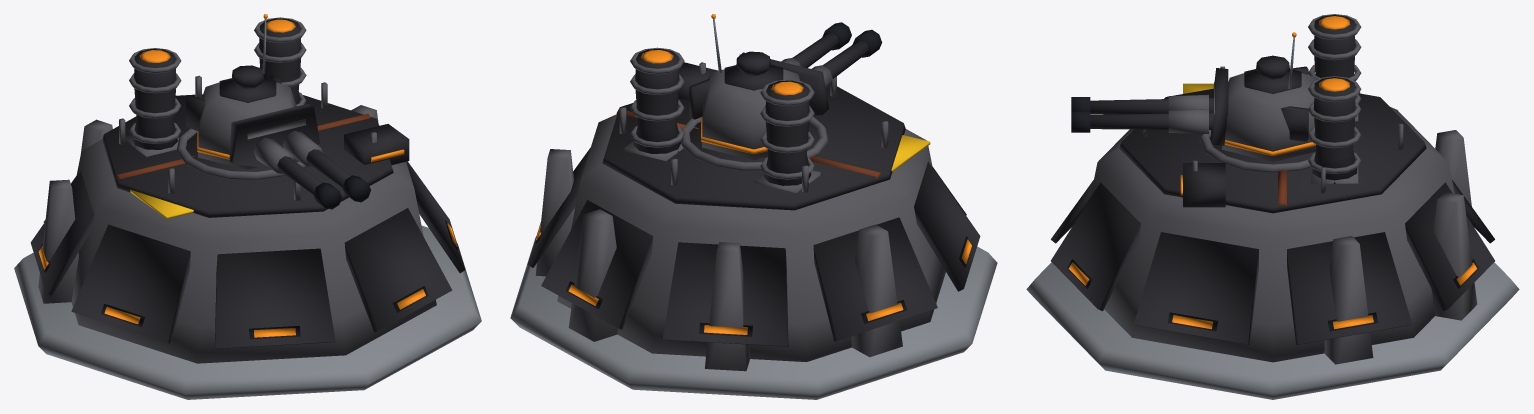
The model's file is nexus_mecha.obj.
3 views of the same model, side by side, from view 1: azimuth 30°, elevation 25°; view 2: azimuth 150°, elevation 25°; view 3: azimuth 270°, elevation 25° (orthographic). The views are drawn at different scales.
Parts seen in each view (by area): view 1: Block, Base, Deck, Plate_5, Plate_4, Plate_6, TurretBody, Stack_0, Mantlet, Buttress_3, Plate_3, RoofBox (+18 smaller); view 2: Block, Base, Deck, Plate_2, Plate_3, Plate_1, TurretBody, Plate_4, Buttress_3, Buttress_2, Buttress_1, Stack_1 (+19 smaller); view 3: Block, Base, Deck, Plate_7, Plate_0, Plate_6, TurretBody, Plate_1, Buttress_0, Buttress_1, Stack_1, RoofBox (+18 smaller).
Boxes of the visible parts, x1,y1,x2,y2 form: Block: (71, 125, 436, 363); Base: (14, 225, 481, 399); Deck: (102, 94, 393, 217); Plate_5: (215, 248, 335, 348); Plate_4: (71, 224, 190, 343); Plate_6: (344, 208, 452, 332); TurretBody: (198, 82, 296, 169); Stack_0: (132, 49, 177, 149); Mantlet: (229, 104, 319, 168); Buttress_3: (38, 179, 78, 303); Plate_3: (30, 171, 94, 295); RoofBox: (344, 124, 409, 165); Block: (557, 114, 945, 361); Base: (510, 236, 997, 399); Deck: (602, 85, 905, 210); Plate_2: (663, 242, 788, 346); Plate_3: (813, 217, 937, 341); Plate_1: (541, 200, 653, 329); TurretBody: (702, 69, 800, 159); Plate_4: (914, 161, 980, 291); Buttress_3: (851, 224, 902, 357); Buttress_2: (705, 242, 750, 371); Buttress_1: (568, 209, 617, 341); Stack_1: (633, 48, 680, 153); Block: (1090, 107, 1454, 362); Base: (1026, 262, 1519, 399); Deck: (1119, 88, 1426, 213); Plate_7: (1134, 232, 1258, 344); Plate_0: (1287, 232, 1411, 344); Plate_6: (1051, 182, 1140, 311); TurretBody: (1222, 73, 1316, 161); Plate_1: (1405, 182, 1494, 311); Buttress_0: (1324, 236, 1373, 364); Buttress_1: (1431, 192, 1477, 320); Stack_1: (1312, 77, 1356, 183); RoofBox: (1183, 163, 1225, 207).
Bounding box in the file's own units: 10.4 × 6.55 × 10.4.
